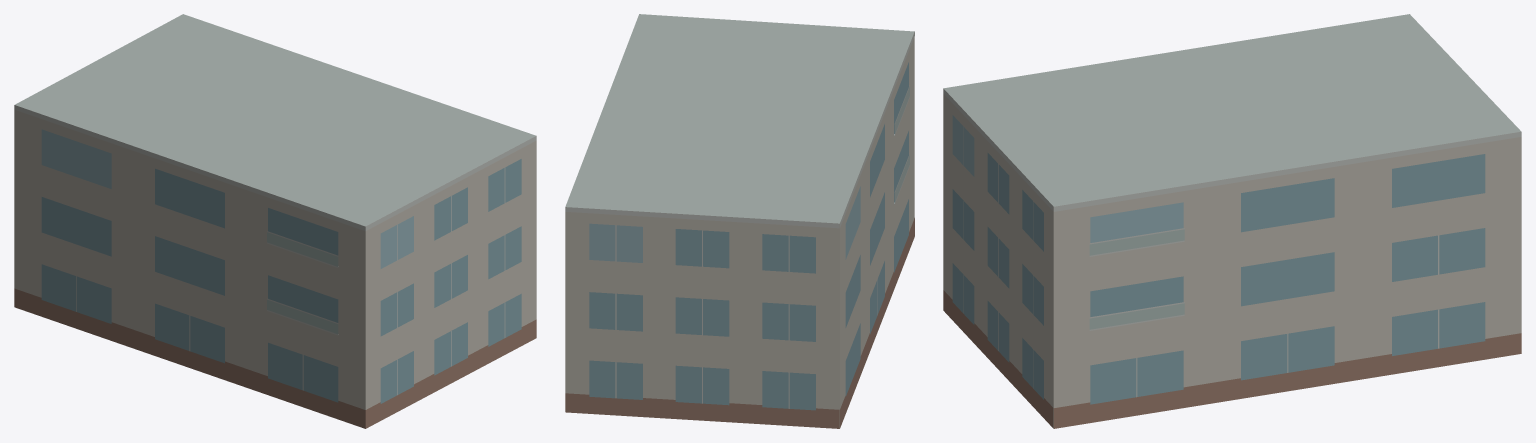
The model's file is survey-upis-33026200.glb.
3 views of the same model, side by side, from view 1: azimuth 30°, elevation 25°; view 2: azimuth 150°, elevation 25°; view 3: azimuth 270°, elevation 25° (orthographic). The views are drawn at different scales.
Parts seen in each view (by area): view 1: survey-upis-33026200.tmp; view 2: survey-upis-33026200.tmp; view 3: survey-upis-33026200.tmp.
Part boxes in pixels (bbox=[...]): survey-upis-33026200.tmp: bbox=[14, 14, 536, 428]; survey-upis-33026200.tmp: bbox=[565, 14, 914, 428]; survey-upis-33026200.tmp: bbox=[943, 14, 1521, 428].
Size of the model in its own units: 19.55 by 10.5 by 24.78.
